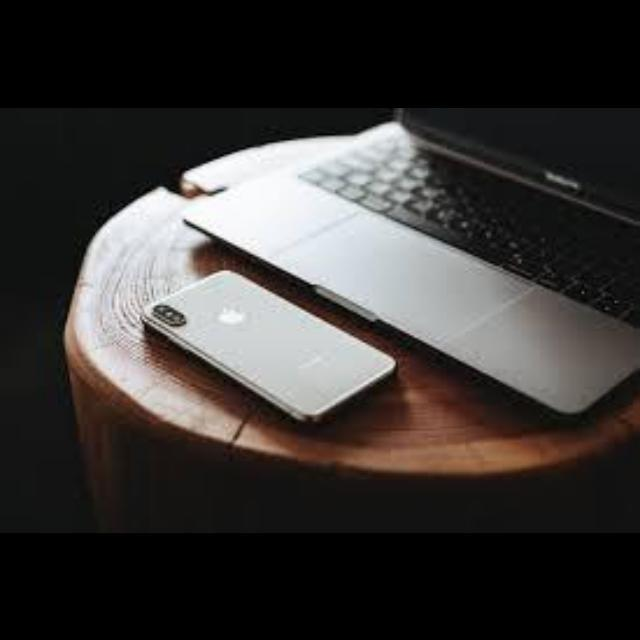Phone: (139, 270, 397, 424)
